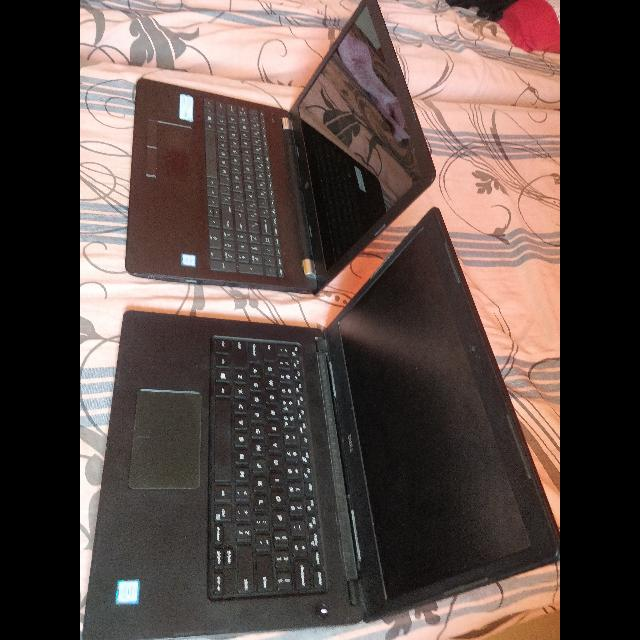Laptop: (80, 204, 560, 640), (115, 3, 449, 301)
